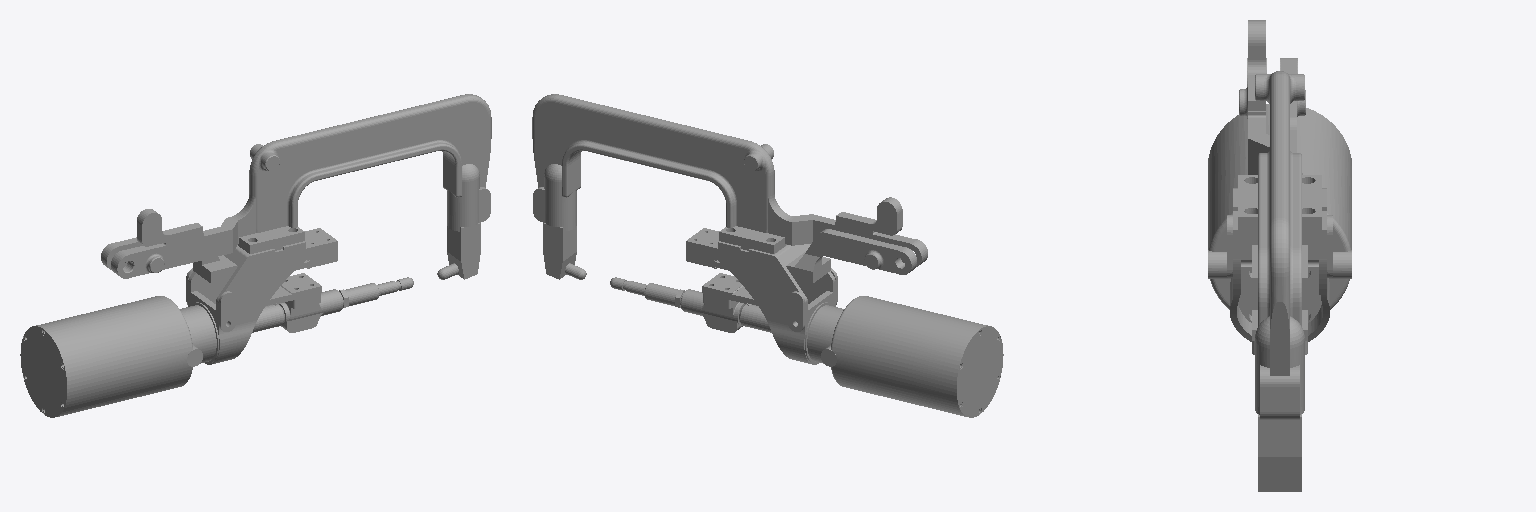
robot.urdf — spot_welding_gun:
<?xml version="1.0"?>
<!-- created with Phobos 1.0.1 "Capricious Choutengan" -->
  <robot name="spot_welding_gun">

    <link name="ee_joint_arm">
      <inertial>
        <origin xyz="0 0 0" rpy="0 0 0"/>
        <mass value="0.001"/>
        <inertia ixx="0.001" ixy="0" ixz="0" iyy="0.001" iyz="0" izz="0.001"/>
      </inertial>
    </link>

    <link name="nozzle_tip">
      <inertial>
        <origin xyz="0 0 0" rpy="0 0 0"/>
        <mass value="0.001"/>
        <inertia ixx="0.001" ixy="0" ixz="0" iyy="0.001" iyz="0" izz="0.001"/>
      </inertial>
    </link>

    <link name="root">
      <inertial>
        <origin xyz="0.5057 -0.00054 0.18351" rpy="0 0 0"/>
        <mass value="2.0"/>
        <inertia ixx="0.03586" ixy="-0.0351" ixz="-0.00028" iyy="0.17402" iyz="7e-05" izz="0.14205"/>
      </inertial>
      <visual name="RFC-22-G01 v2">
        <origin xyz="0.39949 0 0.14487" rpy="0 0 0"/>
        <geometry>
          <mesh filename="meshes/stl/RFC-22-G01 v2.stl" scale="0.00116 0.00116 0.00116"/>
        </geometry>
        <material name="grey">
          <color rgba="0.670588235 0.670588235 0.670588235 1.0"/>
        </material>
      </visual>
      <collision name="RFC-22-G01 v2.000">
        <origin xyz="0.39946 -0.00043 0.14496" rpy="0 0 0"/>
        <geometry>
          <mesh filename="meshes/stl/RFC-22-G01 v2.001.stl" scale="0.78991 0.78991 0.78991"/>
        </geometry>
      </collision>
    </link>

    <joint name="ee_joint_arm" type="fixed">
      <origin xyz="-0.00372 -0.00266 0.00071" rpy="0 1.5708 0"/>
      <parent link="root"/>
      <child link="ee_joint_arm"/>
    </joint>

    <joint name="nozzle_tip" type="fixed">
      <origin xyz="0.67936 0 0.00043" rpy="0 1.5708 0"/>
      <parent link="root"/>
      <child link="nozzle_tip"/>
    </joint>

  </robot>

--- What the picture shows (computed from the rendered views, not written in the file) ---
3 views of the same robot in one strip: view 1: azimuth 30°, elevation 25°; view 2: azimuth 150°, elevation 25°; view 3: azimuth 270°, elevation 25° (orthographic).
Model spot_welding_gun with 3 links and 2 joints (2 fixed), rooted at root, posed all joints at 0.
Links seen in each view (by area): view 1: root; view 2: root; view 3: root.
Link boxes in pixels (x1=…): root: x1=20, y1=94, x2=491, y2=417; root: x1=532, y1=94, x2=1003, y2=417; root: x1=1208, y1=20, x2=1351, y2=491.
Bounding box of the posed robot: 0.8271 × 0.1508 × 0.3828 m (x, y, z).
Meshes: 1 distinct files referenced, 1 mesh visuals loaded (1 binary STL).